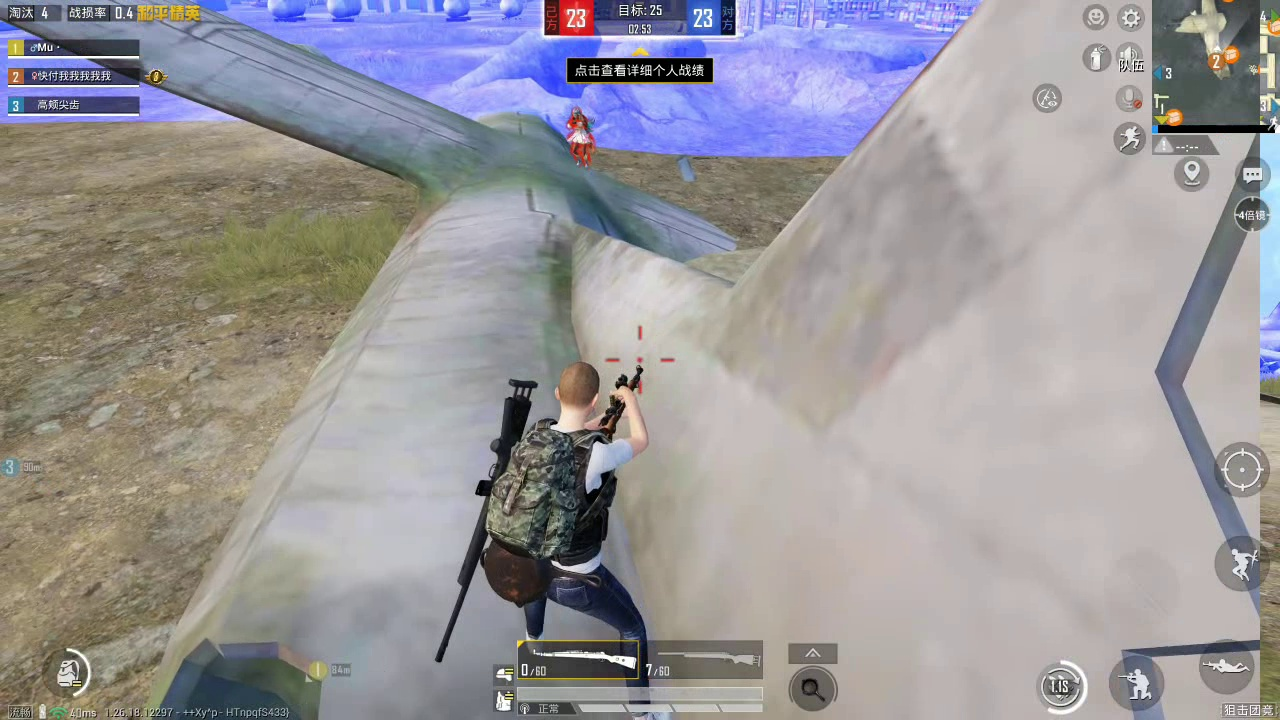enemy: (567, 106, 596, 165)
